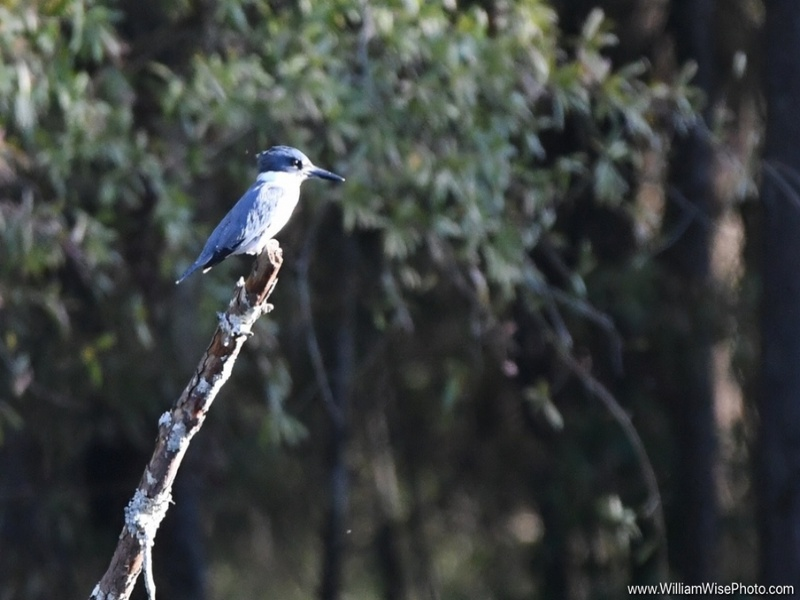kingfisher: (171, 141, 345, 289)
